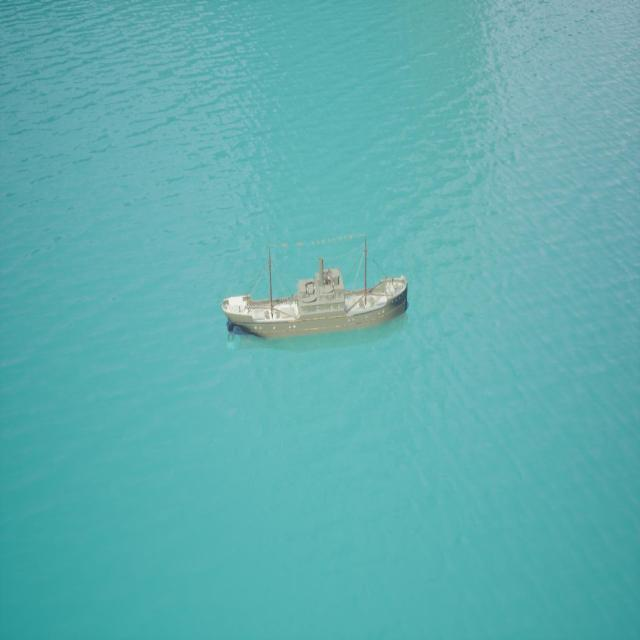fishing ship: (223, 244, 410, 343)
